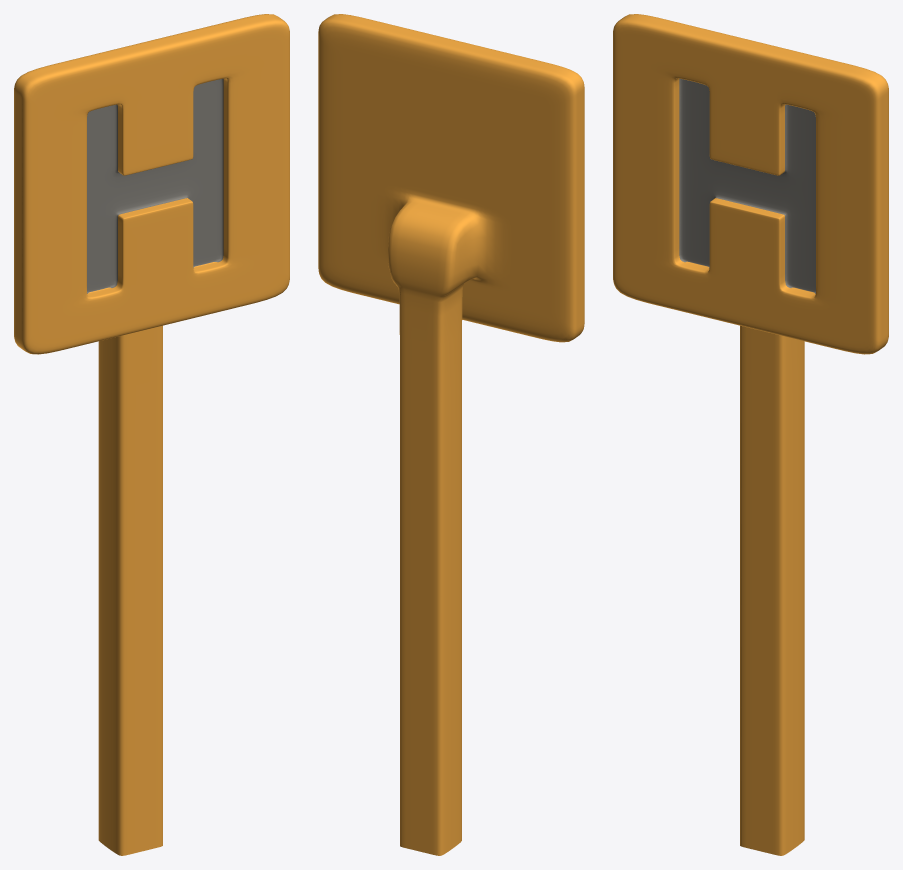
File: HydrantSign.fbx
3 views of the same model, side by side, from view 1: azimuth 30°, elevation 25°; view 2: azimuth 150°, elevation 25°; view 3: azimuth 330°, elevation 25° (orthographic). The views are drawn at different scales.
Visible parts, largest first — view 1: Cube; view 2: Cube; view 3: Cube.
Part boxes in pixels (left/top/right/bottom): Cube: left=14, top=14, right=289, bottom=855; Cube: left=318, top=14, right=584, bottom=855; Cube: left=613, top=14, right=888, bottom=855.
Size of the model in its own units: 88.51 by 258 by 23.75.
